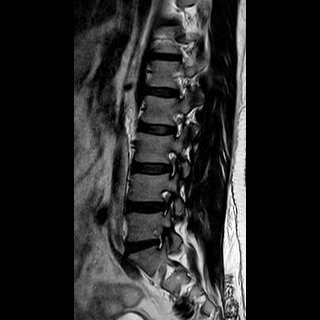RFS0: (166, 106, 188, 143), (160, 145, 181, 181)
RFS2: (153, 185, 177, 218)
